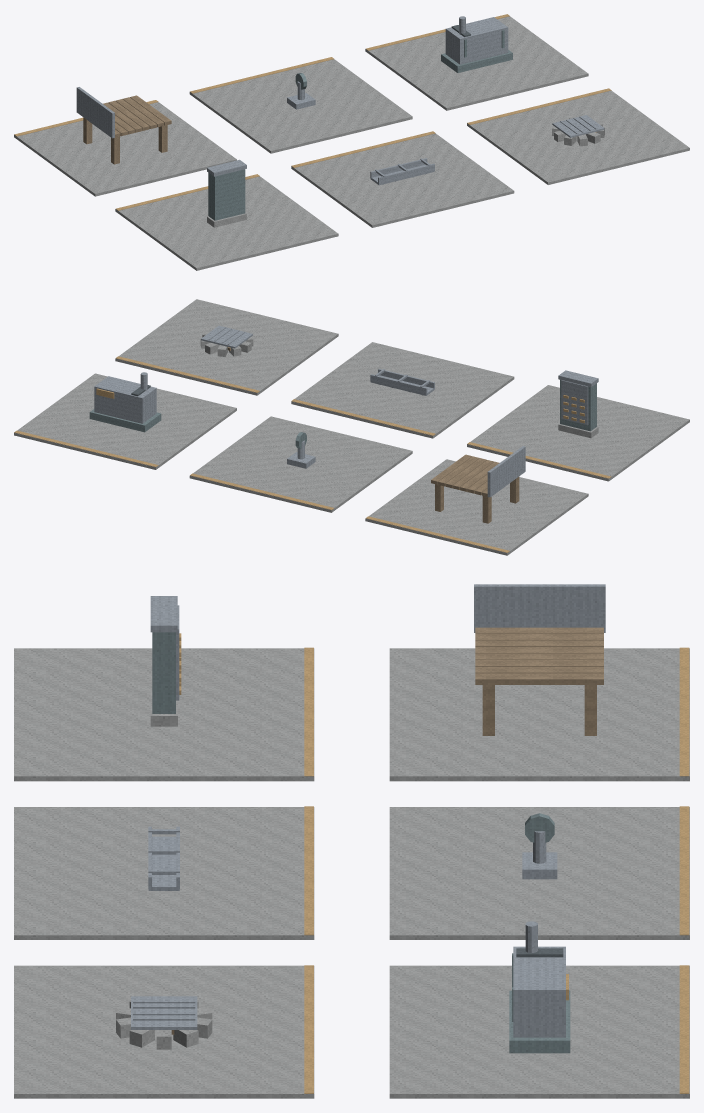
The model's file is level_blockout_kit_wld_11_p01.glb.
3 renders of one model, top to bottom at view 1: azimuth 30°, elevation 25°; view 2: azimuth 150°, elevation 25°; view 3: azimuth 270°, elevation 25°, orthographic. The views are drawn at different scales.
Parts seen in each view (by area): view 1: level_blockout_kit_wld_11_p01; view 2: level_blockout_kit_wld_11_p01; view 3: level_blockout_kit_wld_11_p01.
Part boxes in pixels (box(x1,y1,x2,y2)): level_blockout_kit_wld_11_p01: box(14, 14, 689, 270); level_blockout_kit_wld_11_p01: box(14, 299, 689, 555); level_blockout_kit_wld_11_p01: box(14, 584, 689, 1098).
Bounding box in the file's own units: 19.65 × 2.19 × 12.6.
6 materials, 6 textured.
